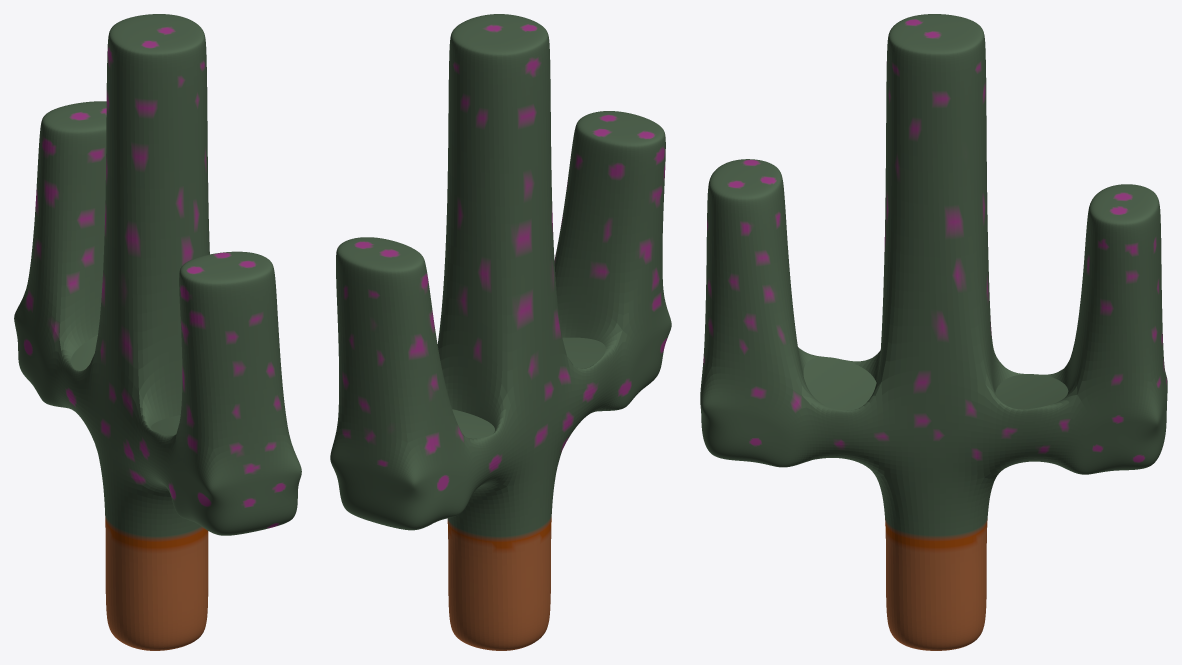
File: saguaro.gltf
3 renders of one model, left to right at view 1: azimuth 30°, elevation 25°; view 2: azimuth 150°, elevation 25°; view 3: azimuth 270°, elevation 25°, orthographic.
Parts seen in each view (by area): view 1: Cube; view 2: Cube; view 3: Cube.
Boxes of the visible parts, bbox=[...] form: Cube: bbox=[14, 14, 301, 650]; Cube: bbox=[330, 14, 671, 650]; Cube: bbox=[700, 14, 1167, 650].
Bounding box in the file's own units: 0.9905 × 4.26 × 2.98.
